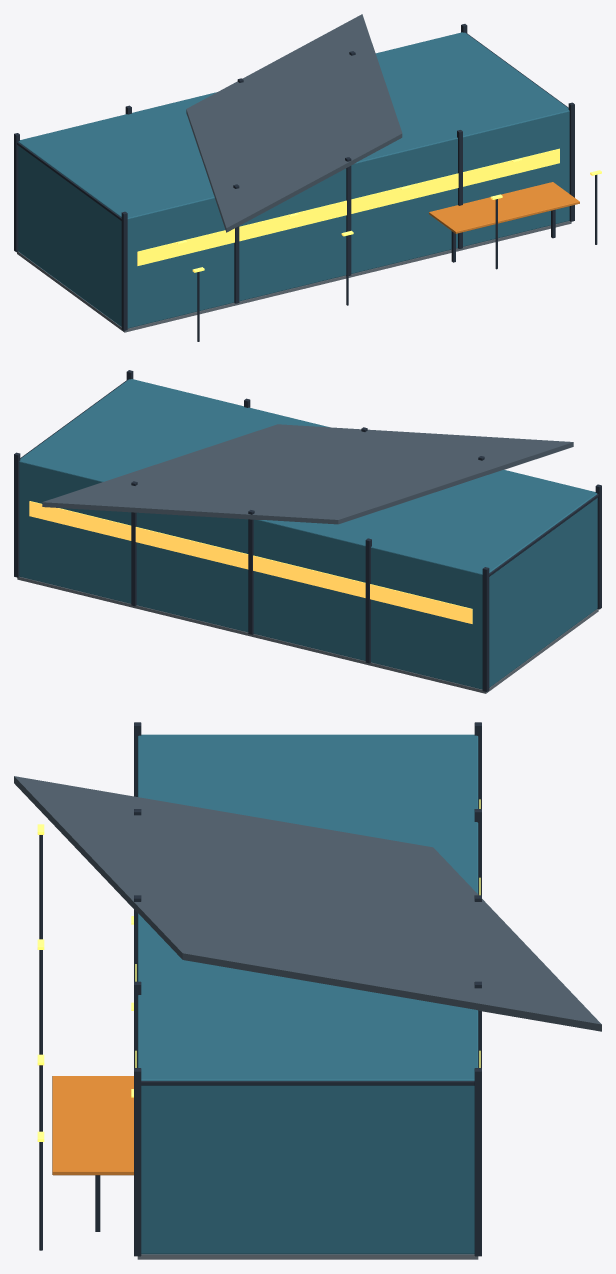
File: material-processing-low.glb
3 renders of one model, top to bottom at view 1: azimuth 30°, elevation 25°; view 2: azimuth 150°, elevation 25°; view 3: azimuth 270°, elevation 25°, orthographic. The views are drawn at different scales.
Parts seen in each view (by area): view 1: processing_hall, processing_hall_roof, continuous_window, loading_bay_canopy, processing_foundation, steel_column, steel_column.008, steel_column.001, steel_column.004, steel_column.002, steel_column.006; view 2: processing_hall, processing_hall_roof, continuous_window.001, processing_foundation, steel_column.001, steel_column.009, steel_column.003, steel_column.005, steel_column, steel_column.007, roof_truss; view 3: processing_hall, processing_hall_roof, loading_bay_canopy, processing_foundation, roof_truss.004, steel_column.008, steel_column.009.
Boxes of the visible parts, bbox=[...] form: processing_hall: bbox=[18, 32, 569, 328]; processing_hall_roof: bbox=[186, 14, 402, 232]; continuous_window: bbox=[137, 148, 559, 265]; loading_bay_canopy: bbox=[429, 182, 579, 233]; processing_foundation: bbox=[17, 221, 571, 332]; steel_column: bbox=[121, 211, 127, 330]; steel_column.008: bbox=[568, 102, 574, 221]; steel_column.001: bbox=[14, 133, 19, 252]; steel_column.004: bbox=[345, 157, 351, 275]; steel_column.002: bbox=[233, 184, 239, 303]; steel_column.006: bbox=[457, 130, 462, 248]; processing_hall: bbox=[19, 379, 597, 689]; processing_hall_roof: bbox=[42, 424, 573, 524]; continuous_window.001: bbox=[29, 501, 472, 623]; processing_foundation: bbox=[17, 576, 598, 693]; steel_column.001: bbox=[482, 567, 489, 691]; steel_column.009: bbox=[14, 452, 20, 577]; steel_column.003: bbox=[365, 538, 371, 663]; steel_column.005: bbox=[248, 510, 254, 634]; steel_column: bbox=[595, 484, 601, 609]; steel_column.007: bbox=[131, 481, 137, 606]; roof_truss: bbox=[489, 494, 598, 576]; processing_hall: bbox=[137, 734, 478, 1254]; processing_hall_roof: bbox=[14, 776, 601, 1031]; loading_bay_canopy: bbox=[52, 1076, 133, 1175]; processing_foundation: bbox=[137, 1254, 478, 1259]; roof_truss.004: bbox=[141, 1081, 474, 1085]; steel_column.008: bbox=[134, 1068, 141, 1256]; steel_column.009: bbox=[474, 1068, 481, 1256].
Size of the model in its own units: 72.65 by 18.45 by 51.76.
